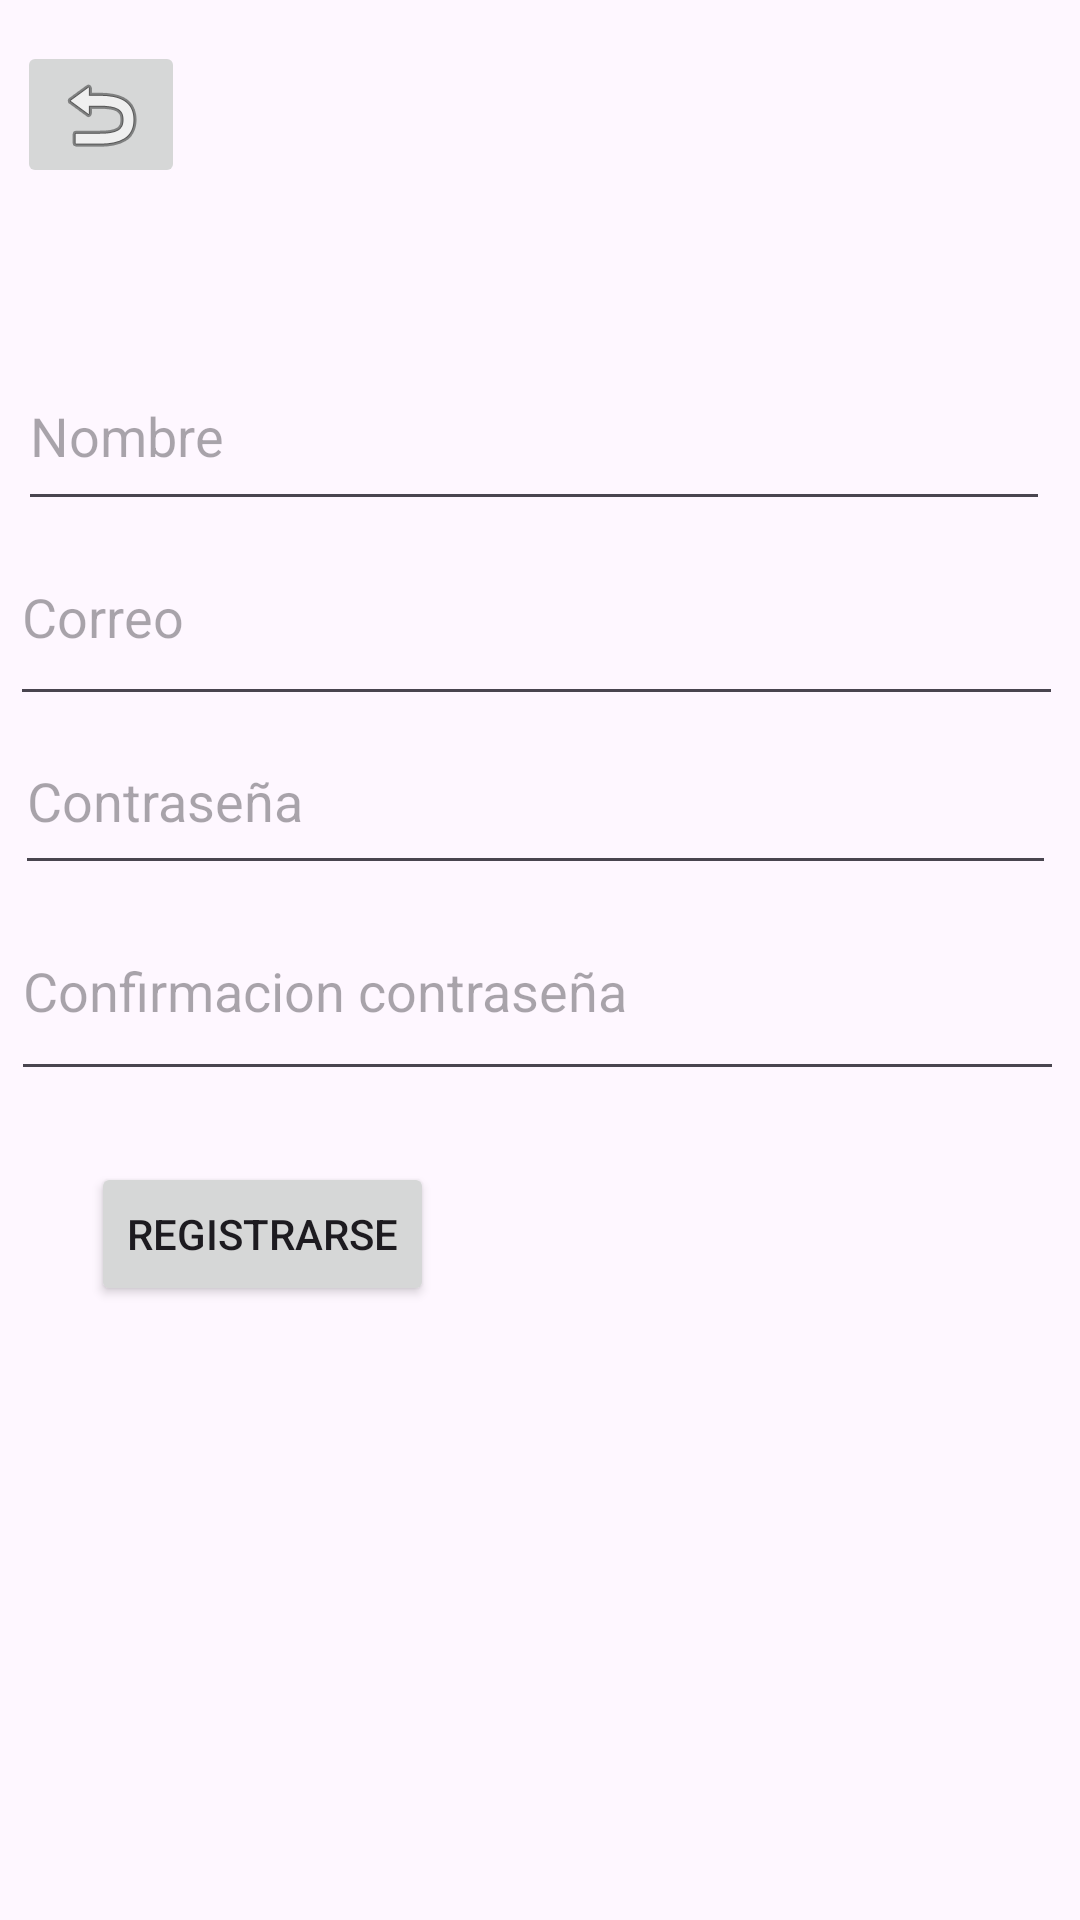

Where icons sit on this 1080×1920 app screen, as (x1, y1, x2, y2):
revert: (29, 59, 173, 170)
